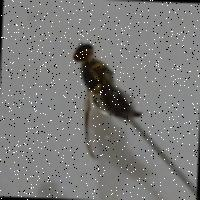Oriental-fruit-fly: (64, 34, 152, 167)
